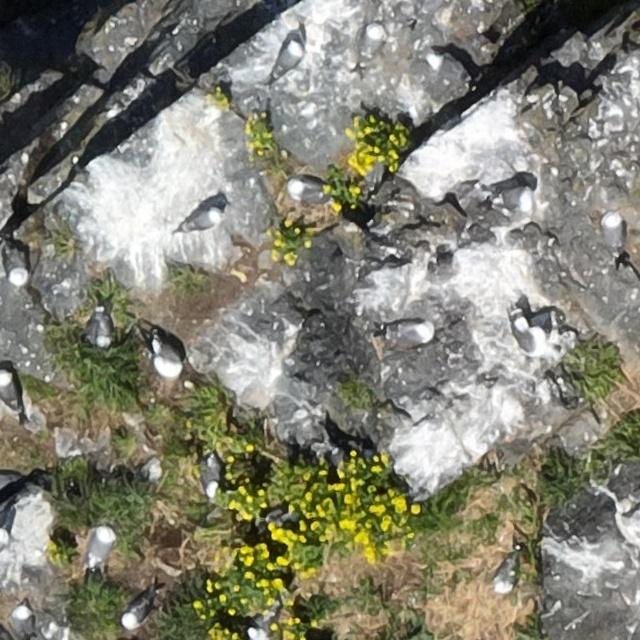umineko: (150, 334, 182, 378), (492, 549, 522, 595), (383, 319, 432, 347), (178, 207, 223, 234), (426, 53, 464, 83), (12, 601, 40, 640), (2, 247, 28, 286), (88, 527, 113, 566), (288, 180, 328, 203), (494, 186, 534, 209), (276, 39, 300, 73), (123, 598, 149, 628), (202, 460, 219, 498), (605, 216, 623, 250), (0, 374, 19, 405), (364, 26, 382, 58), (248, 617, 273, 639), (93, 312, 109, 344), (513, 317, 528, 346)
